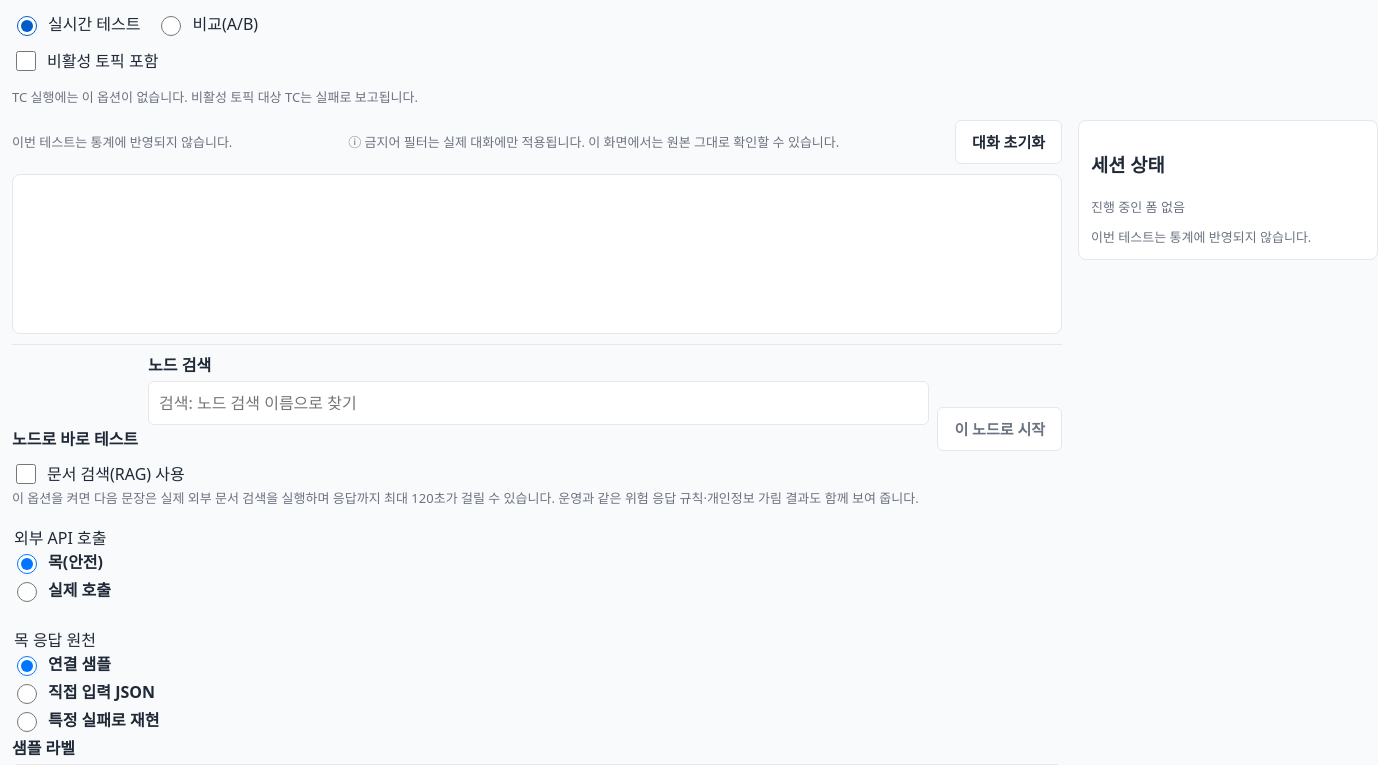
Test case: SimulatorPanel — 노드 직접 점프(FR-E2-1, §4.1.3) › 노드 검색 후 선택하고 "이 노드로 시작"을 누르면 buttonAction NODE로 시뮬레이션 요청이 간다
In the dropdown labelled "노드 검색": point(539, 402) left=148, top=380, right=929, bottom=424, type "배송"
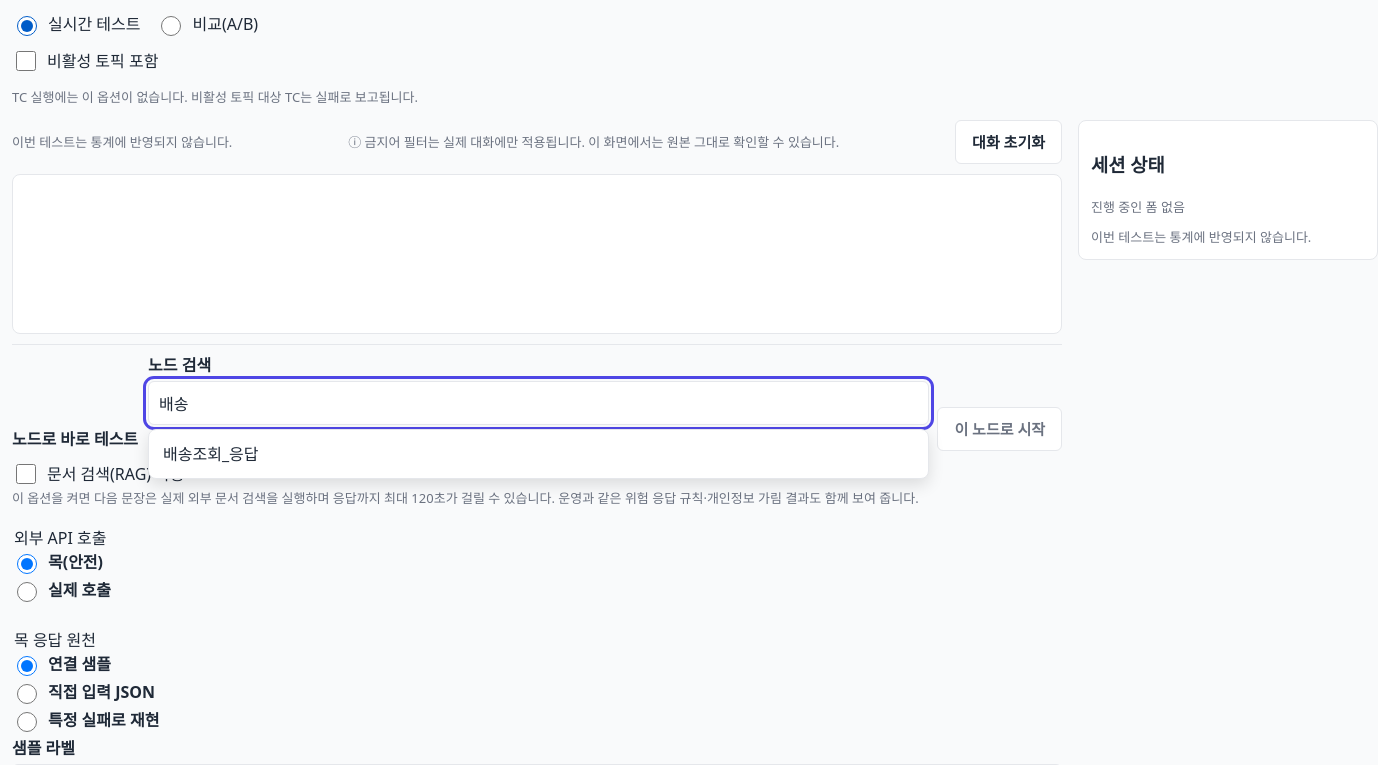
Click the option "배송조회_응답": point(211, 454) left=163, top=442, right=258, bottom=464
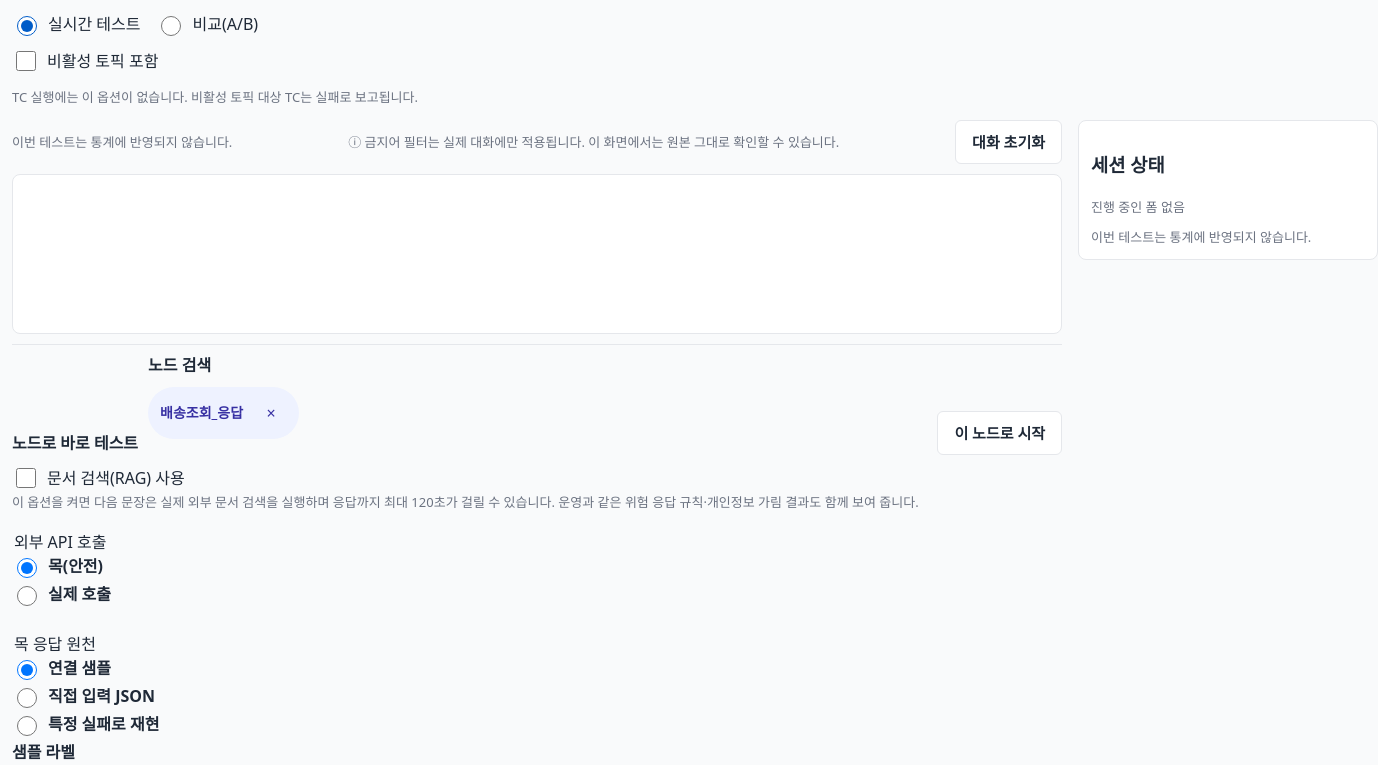
Check: the button "이 노드로 시작" is enabled
Click the button "이 노드로 시작": point(1000, 432) left=937, top=410, right=1062, bottom=454
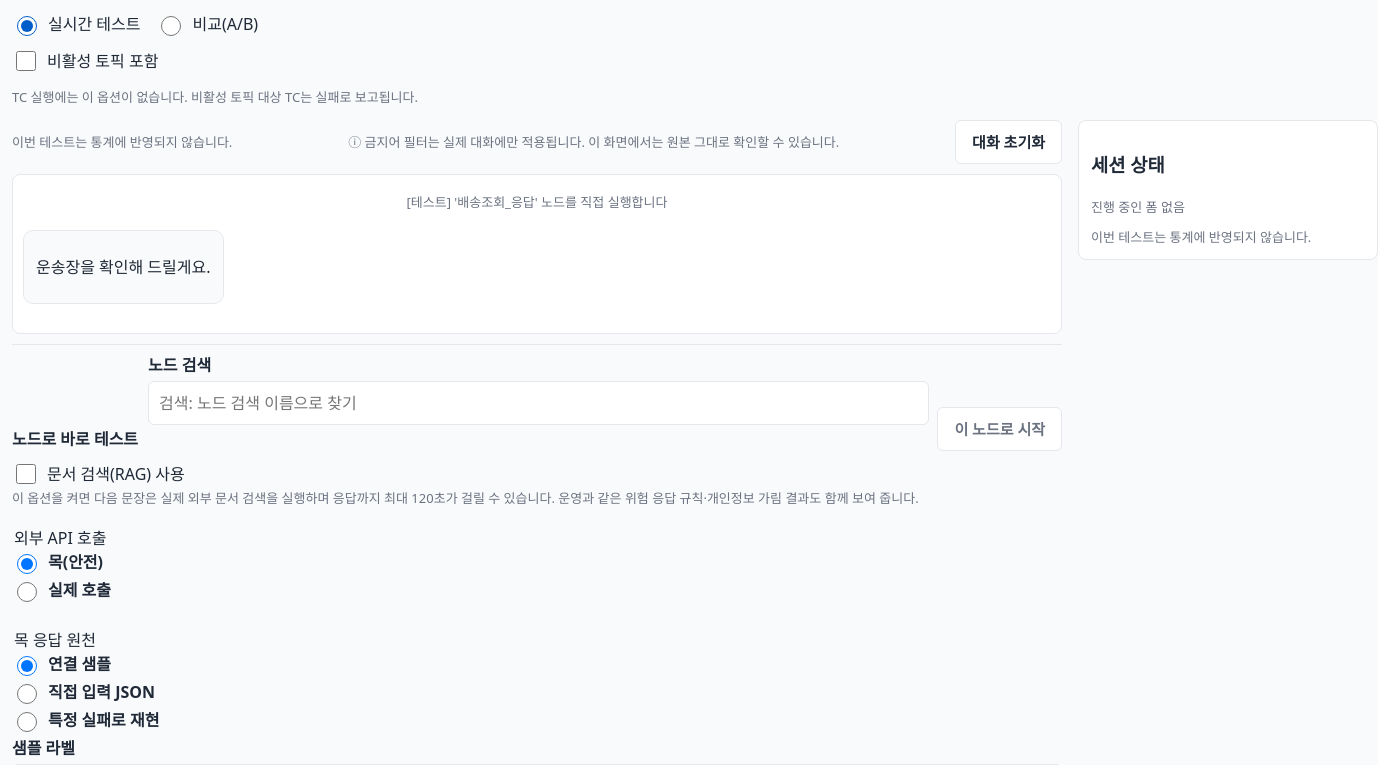
Check: the text "운송장을 확인해 드릴게요." is shown, box left=36, top=255, right=210, bottom=279
Check: the text "[테스트] '배송조회_응답' 노드를 직접 실행합니다" is shown, box left=406, top=192, right=667, bottom=212
